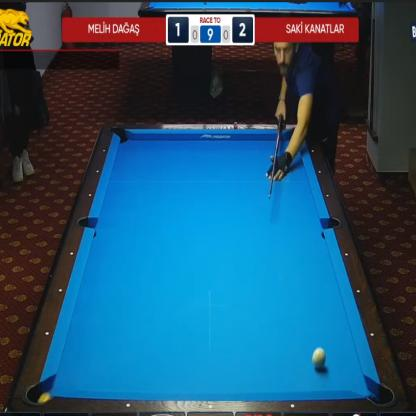Ball: (312, 348, 326, 369)
